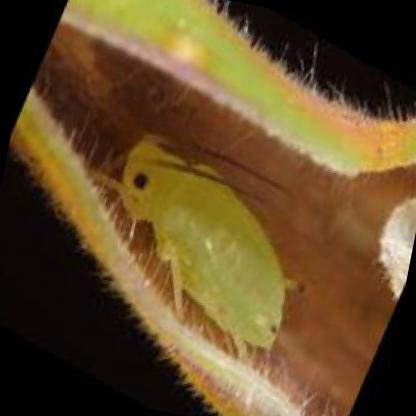schizaphis graminum: (121, 141, 305, 350)
